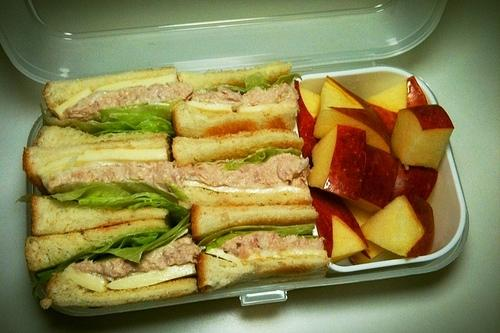apple: (313, 75, 392, 155), (360, 194, 435, 258), (308, 124, 367, 200), (334, 144, 399, 212), (390, 105, 454, 171), (365, 76, 428, 138), (294, 80, 322, 170), (387, 158, 438, 202), (348, 204, 388, 260), (330, 216, 366, 262)
lettuce: (33, 212, 191, 299), (47, 179, 191, 228), (198, 224, 314, 253), (108, 113, 174, 130), (244, 148, 302, 164), (222, 82, 274, 94), (130, 242, 144, 247)
